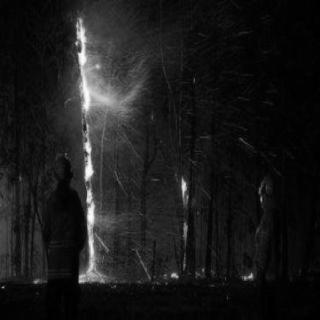Fire: (176, 170, 198, 282)
